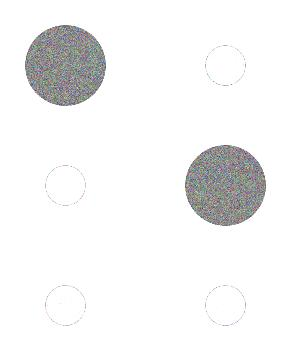E: (18, 19, 270, 336)
